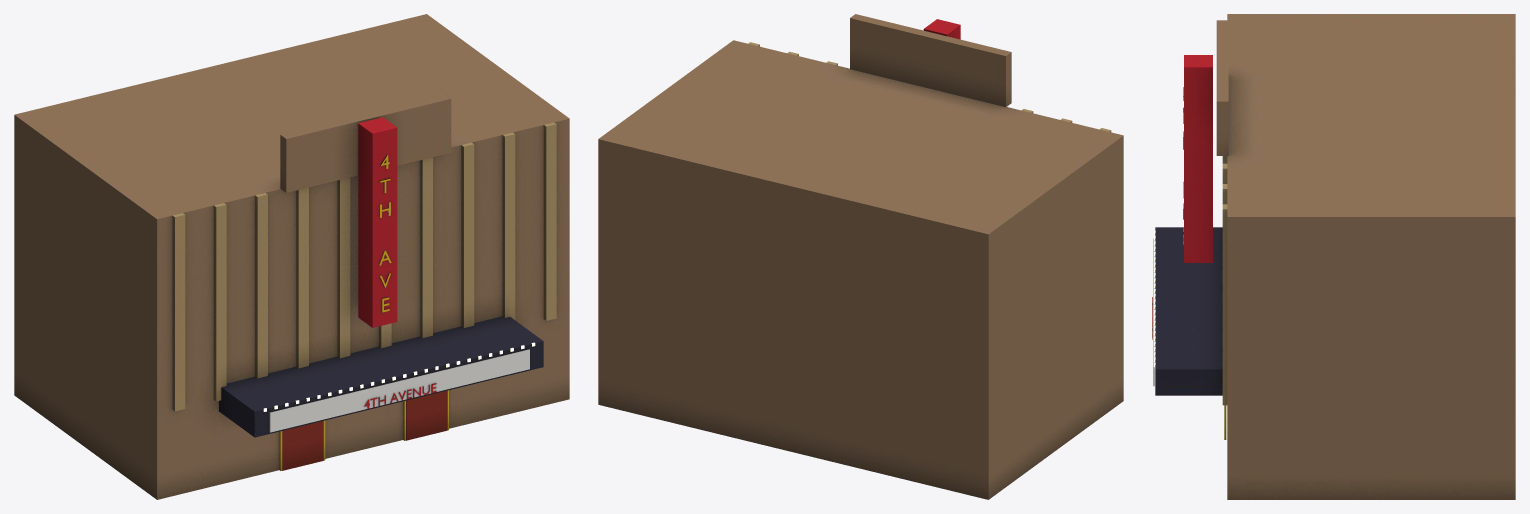
File: teatro_4th.glb
The picture shows the model from 3 angles, left to right: view 1: azimuth 30°, elevation 25°; view 2: azimuth 150°, elevation 25°; view 3: azimuth 270°, elevation 25°; orthographic projection. The views are drawn at different scales.
Visible parts, largest first — view 1: teatro_4th; view 2: teatro_4th; view 3: teatro_4th.
Part boxes in pixels (x1,y1,x2,y2): teatro_4th: [14, 14, 569, 499]; teatro_4th: [598, 14, 1123, 499]; teatro_4th: [1152, 14, 1515, 499].
Size of the model in its own units: 20 by 15.5 by 15.12.
1 material, 1 textured.
